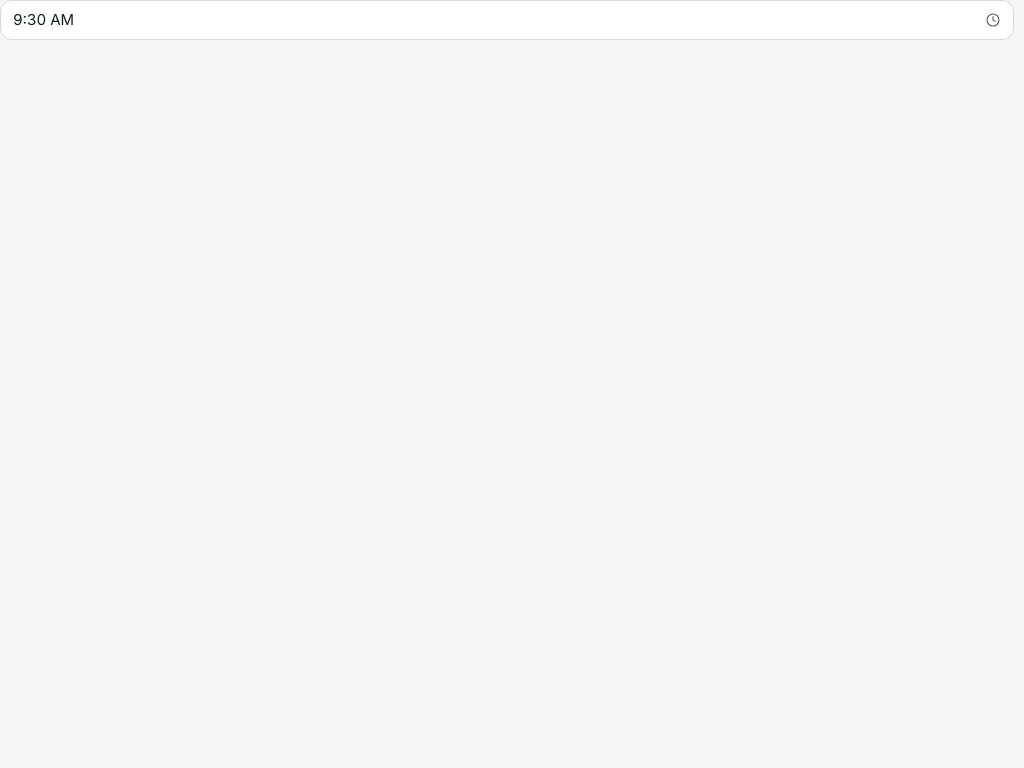
NuqtaTimePicker — 12-hour mode › rejects an impossible typed time instead of guessing
Later steps or results of the test are not shown.
Click the dropdown named "Pick time".
click(44, 20)  # box [0,0,1014,40]
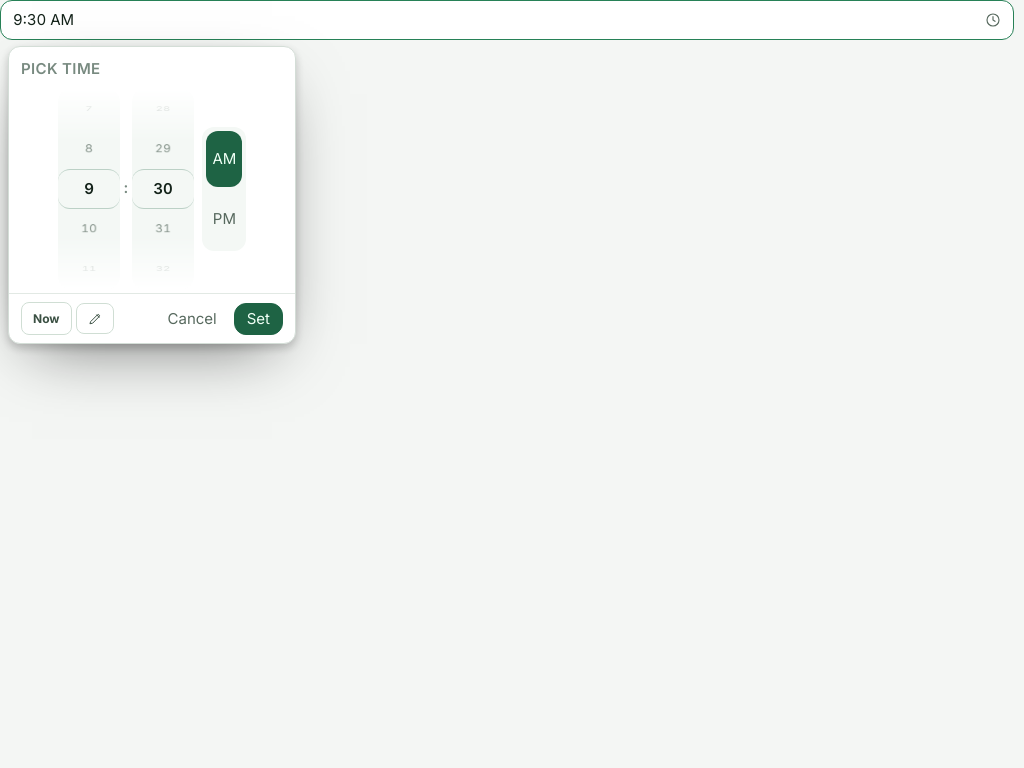
Click the button named "Type a time instead".
click(94, 319)  # box [76,303,114,334]
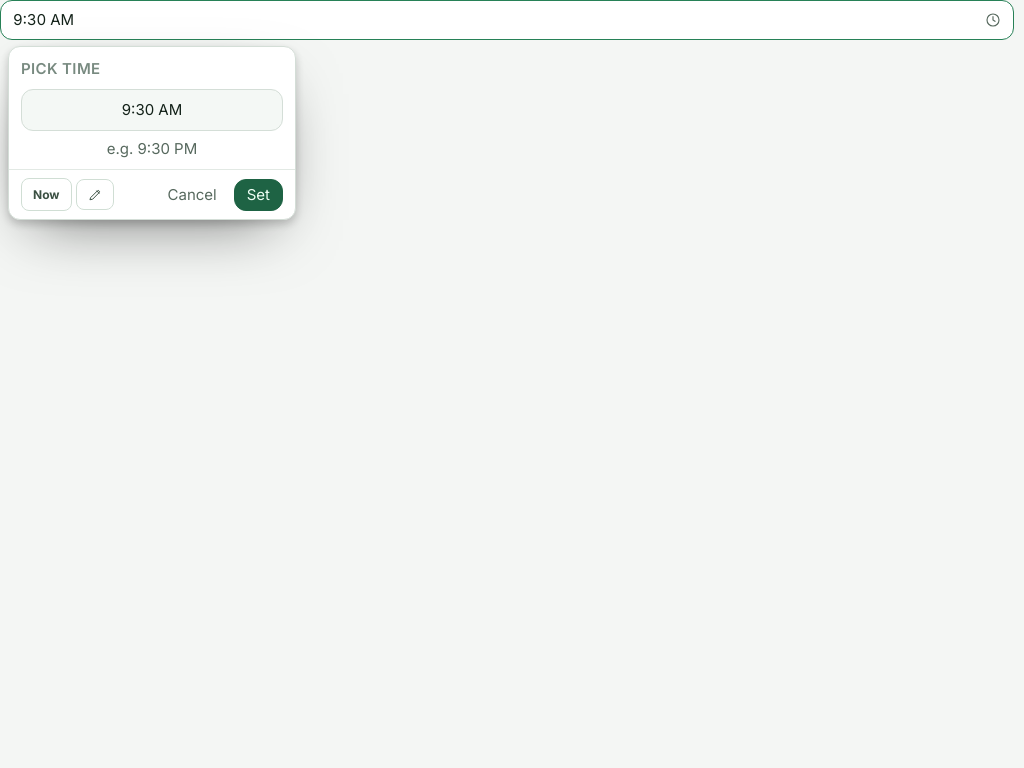
Replace the text in the field with "99:99" at {"x": 152, "y": 110}, box [21,89,283,131]
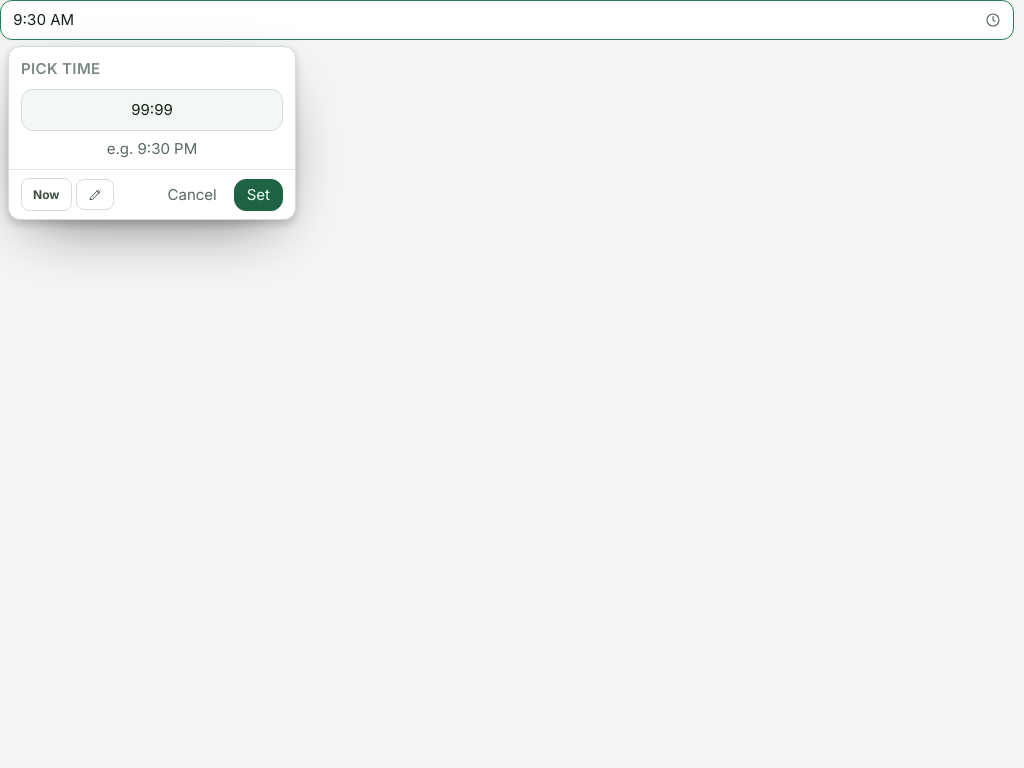
Press Enter in the field, box [21,89,283,131]
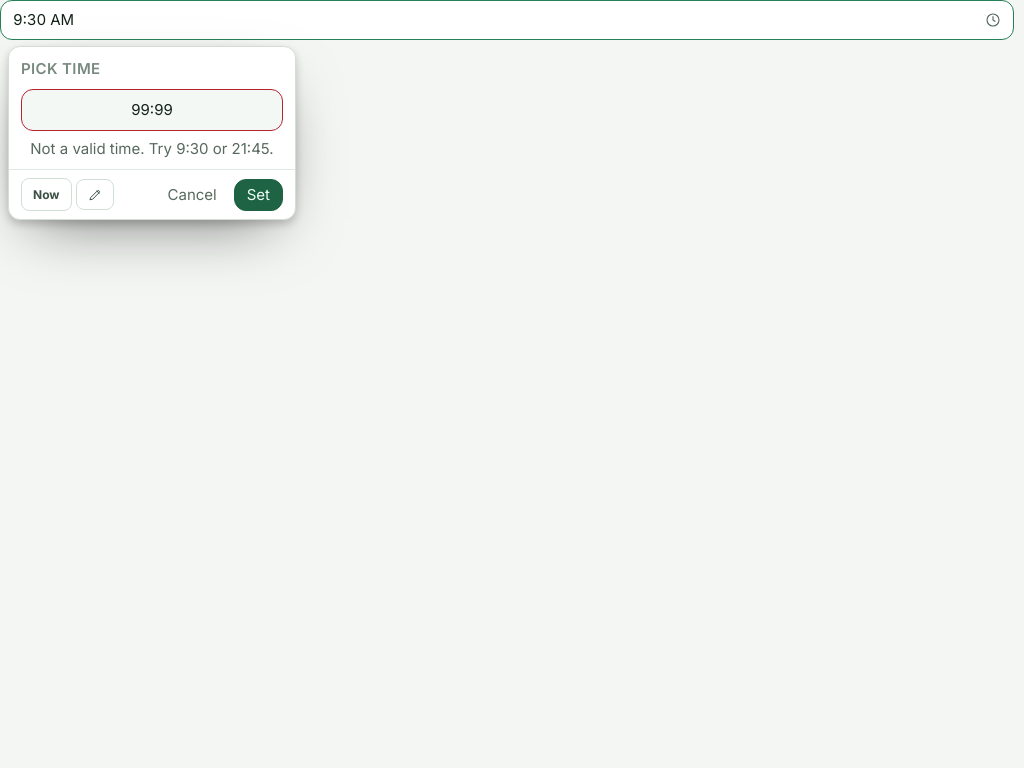
Check: the message "Not a valid time. Try 9:30 or 21:45." is shown, box [21,137,283,161]
